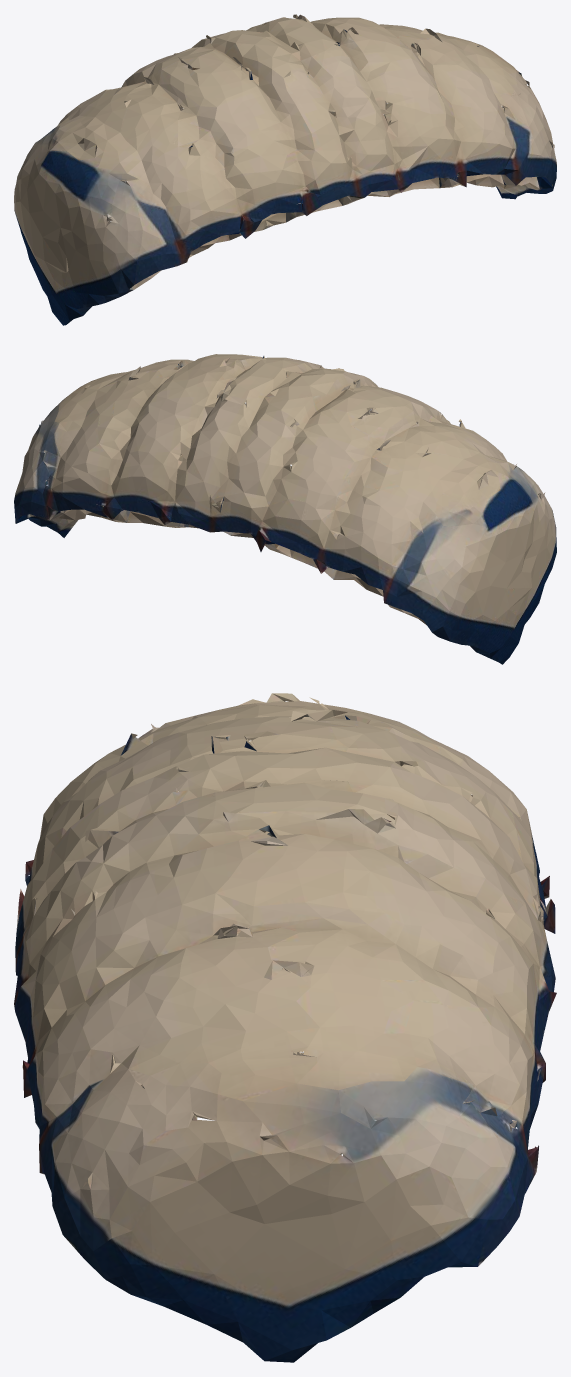
File: parachute_ramair_1117.glb
3 renders of one model, top to bottom at view 1: azimuth 30°, elevation 25°; view 2: azimuth 150°, elevation 25°; view 3: azimuth 270°, elevation 25°, orthographic. The views are drawn at different scales.
Visible parts, largest first — view 1: world; view 2: world; view 3: world.
Part boxes in pixels (x1=…): world: x1=14, y1=14, x2=556, y2=325; world: x1=14, y1=354, x2=556, y2=664; world: x1=14, y1=693, x2=556, y2=1362.
Size of the model in its own units: 2.08 by 1 by 1.15.
Materials: 1 (1 with a texture image).
